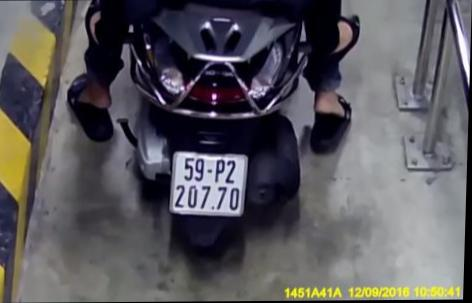LP: (170, 150, 250, 217)
